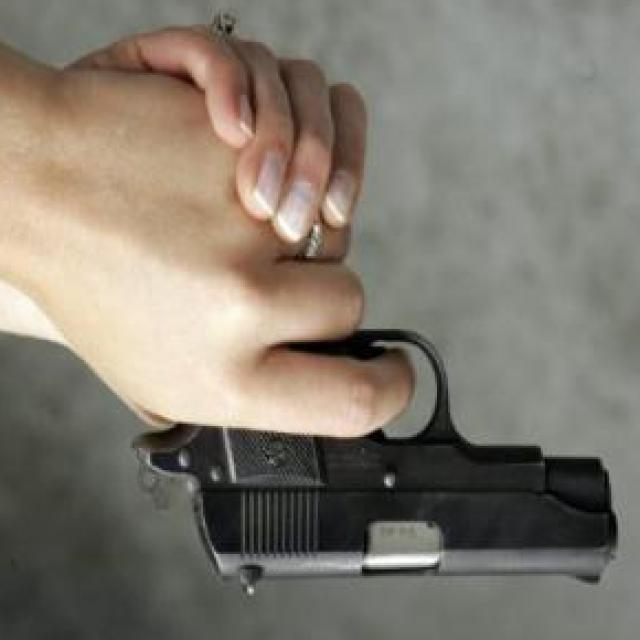pistol: (137, 324, 620, 598)
